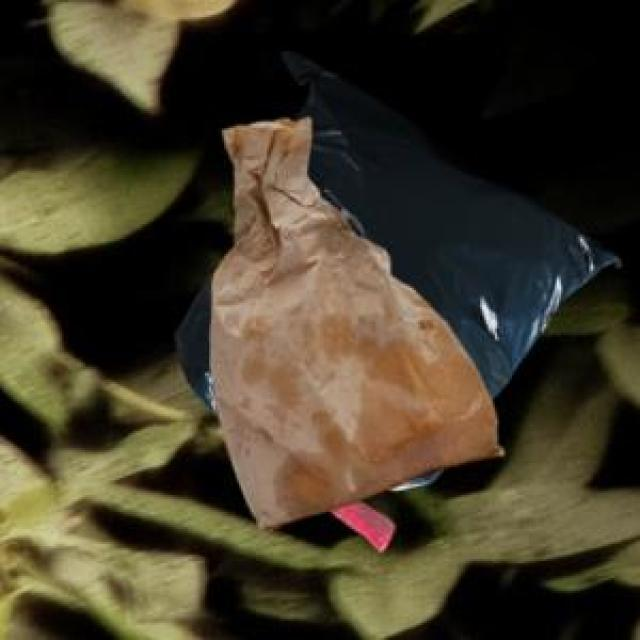miscellaneous trash: (171, 47, 617, 546)
paper: (207, 113, 499, 527)
